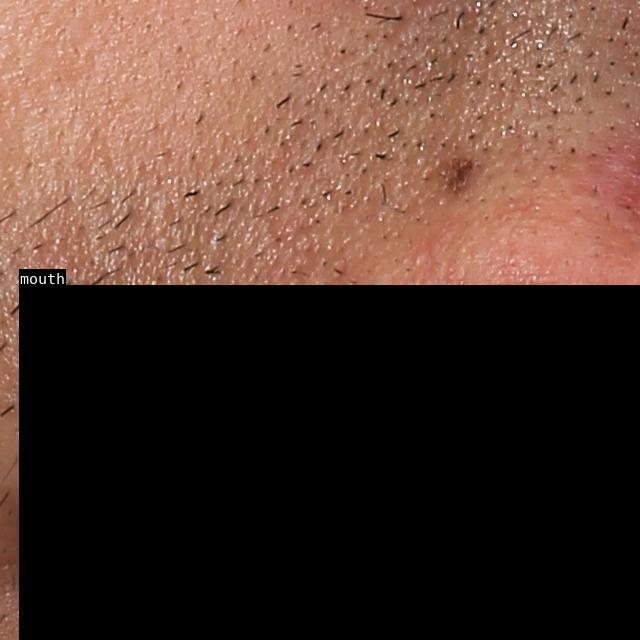nevus: (441, 148, 478, 196)
